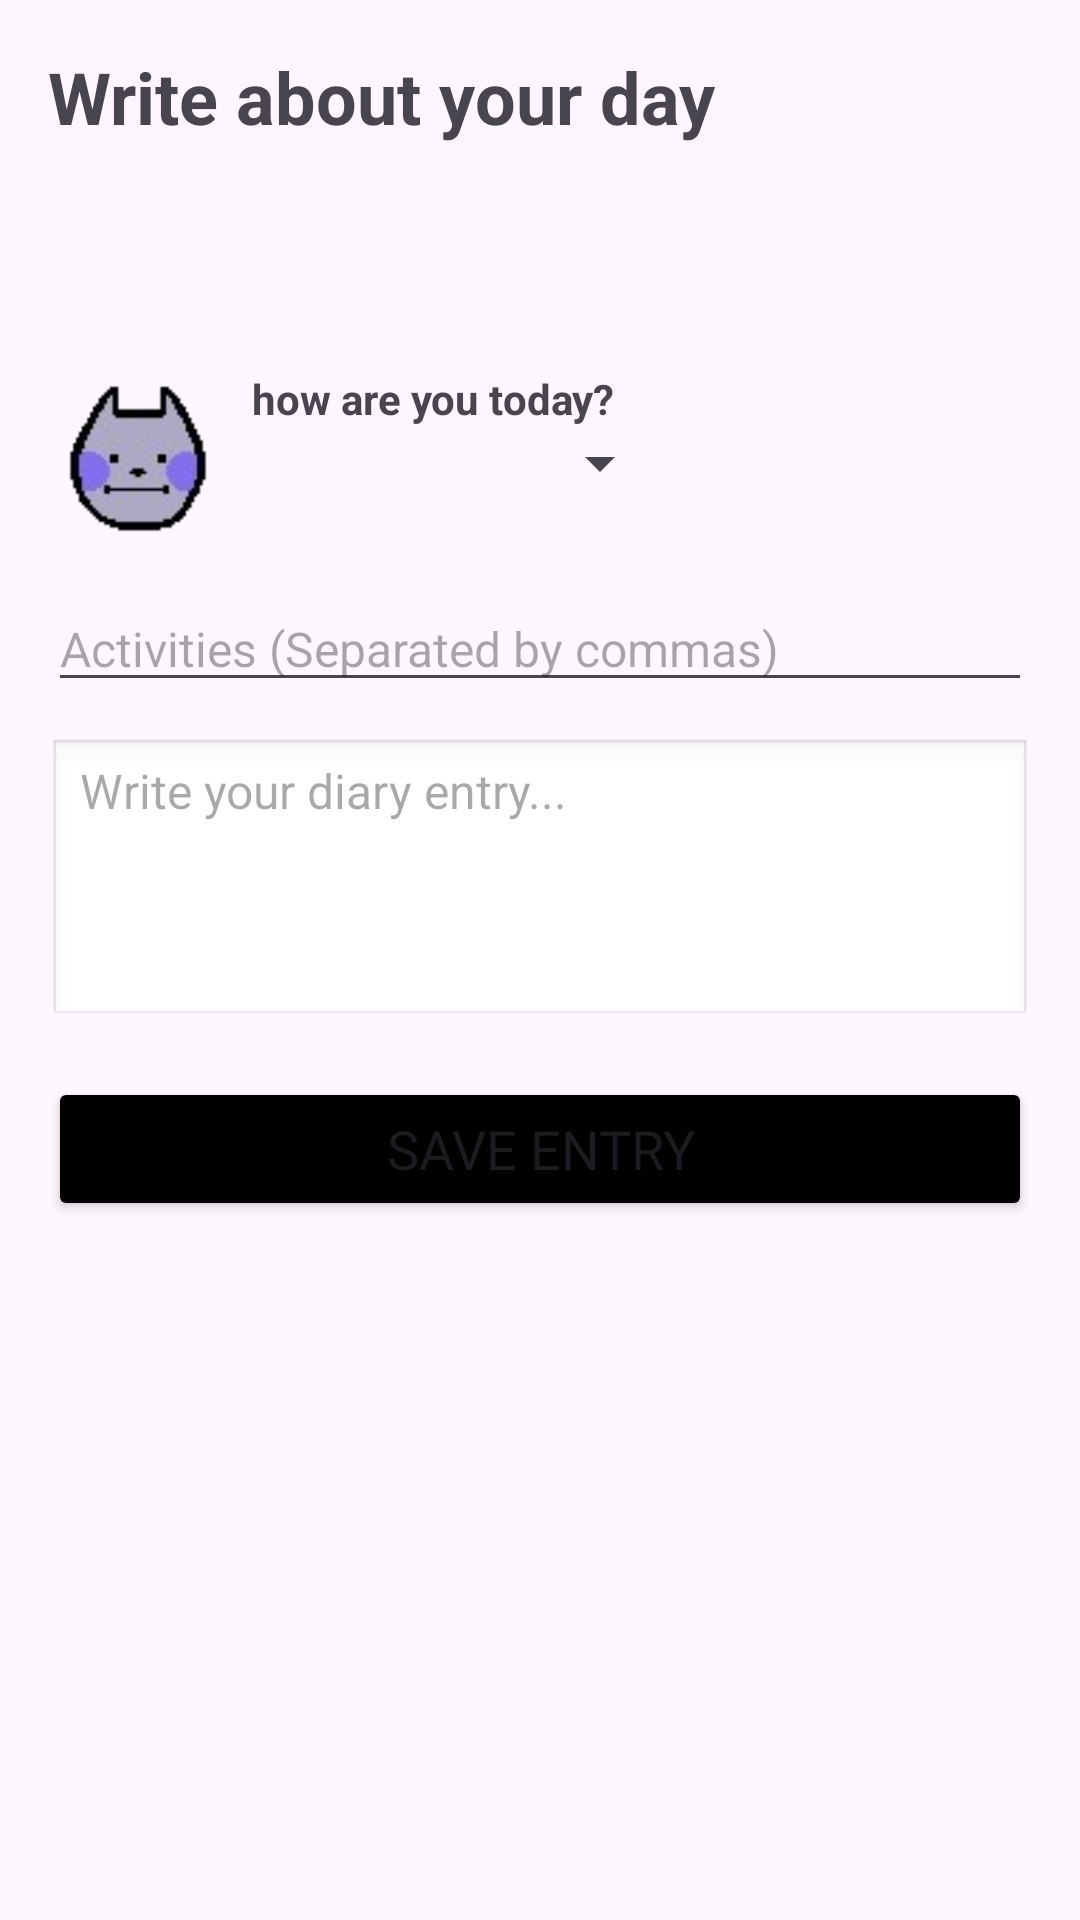

Icon bounding boxes for this 1080 × 1920 phone screenshot, format (x1, y1, x2, y2):
Mood Icon: (69, 386, 207, 531)
